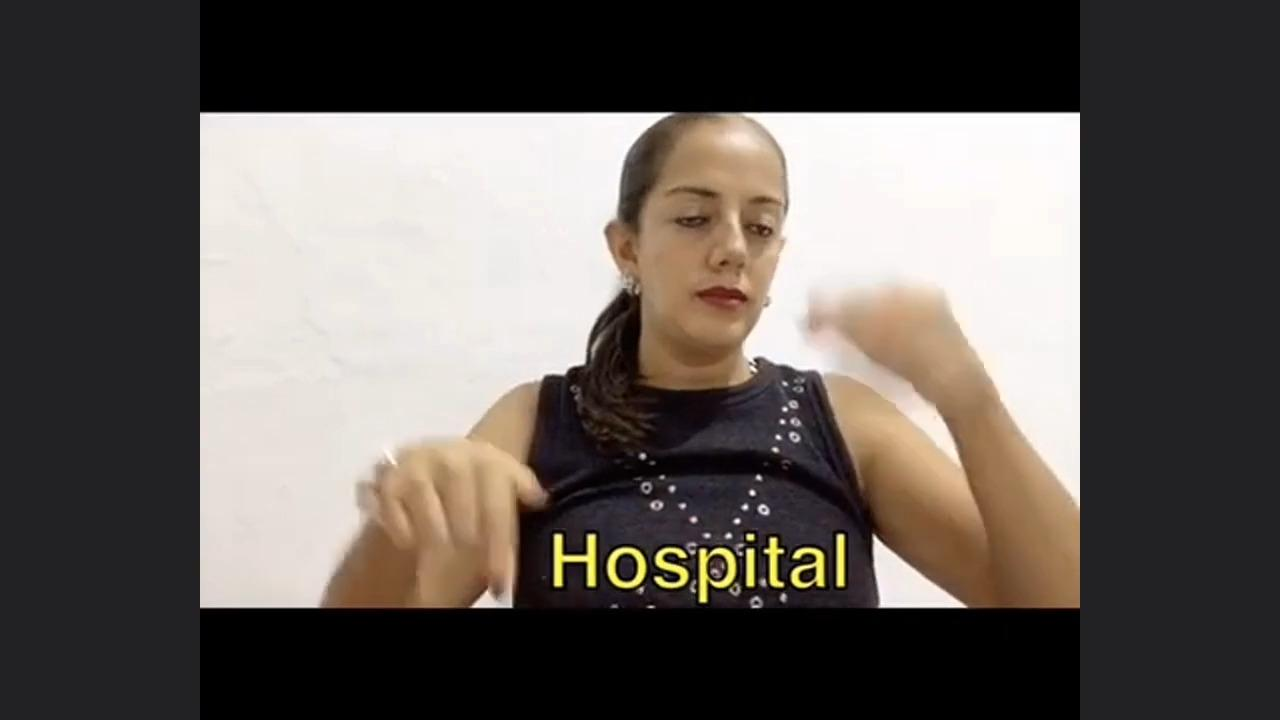Hospital: (278, 269, 1061, 579)
